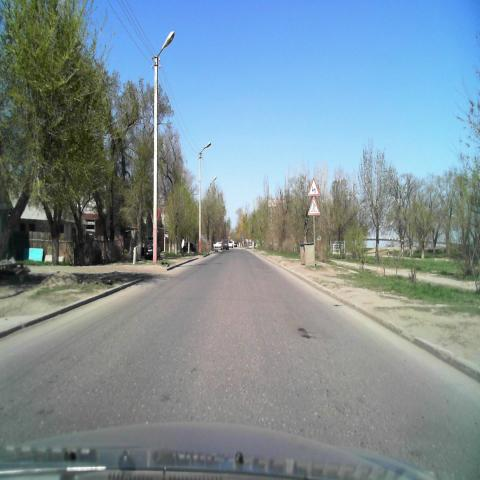1_12_2: (308, 177, 320, 197)
